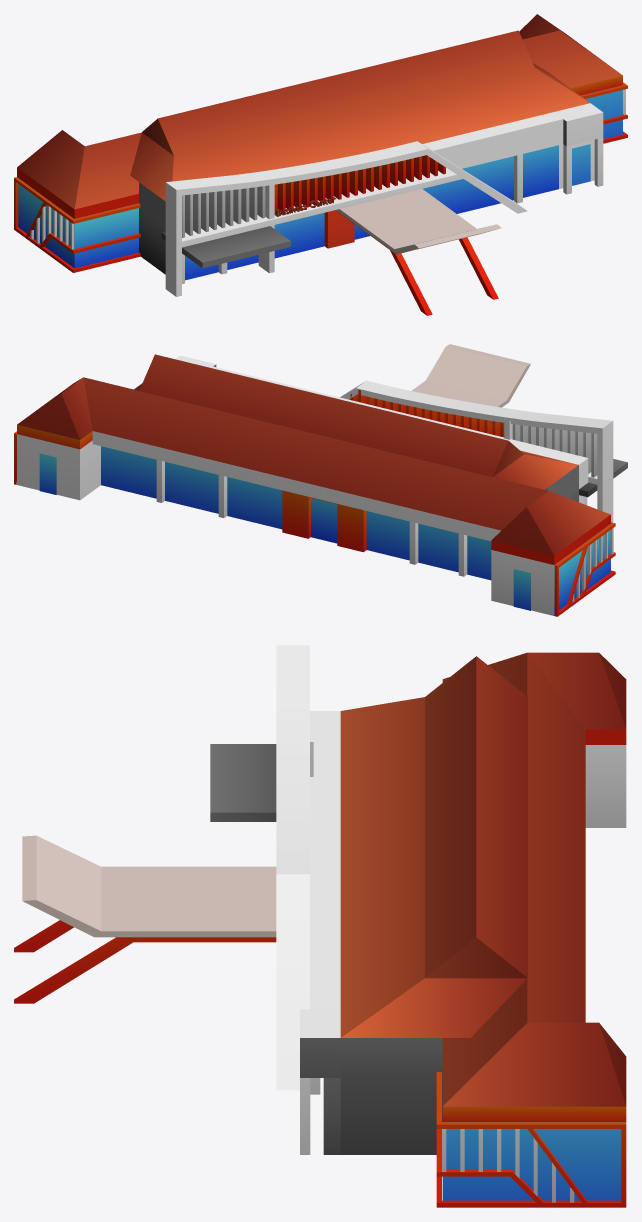
Rendered from Gedung  Business Center.fbx.
The picture shows the model from 3 angles, top to bottom: view 1: azimuth 30°, elevation 25°; view 2: azimuth 150°, elevation 25°; view 3: azimuth 270°, elevation 25°; orthographic projection. The views are drawn at different scales.
Parts seen in each view (by area): view 1: Business Center; view 2: Business Center; view 3: Business Center.
Part boxes in pixels (x1=…): Business Center: x1=14, y1=14, x2=627, y2=315; Business Center: x1=14, y1=344, x2=627, y2=616; Business Center: x1=14, y1=645, x2=626, y2=1207.
Bounding box in the file's own units: 3014 × 633 × 1809.
Materials: 1 (1 with a texture image).
